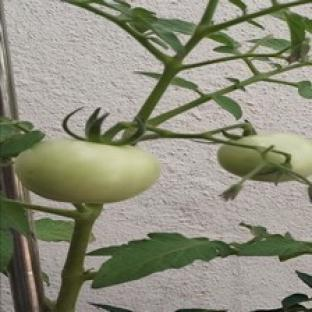Tomato: (16, 140, 160, 203), (234, 133, 311, 176)
